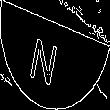N_N: (38, 25, 72, 85)
